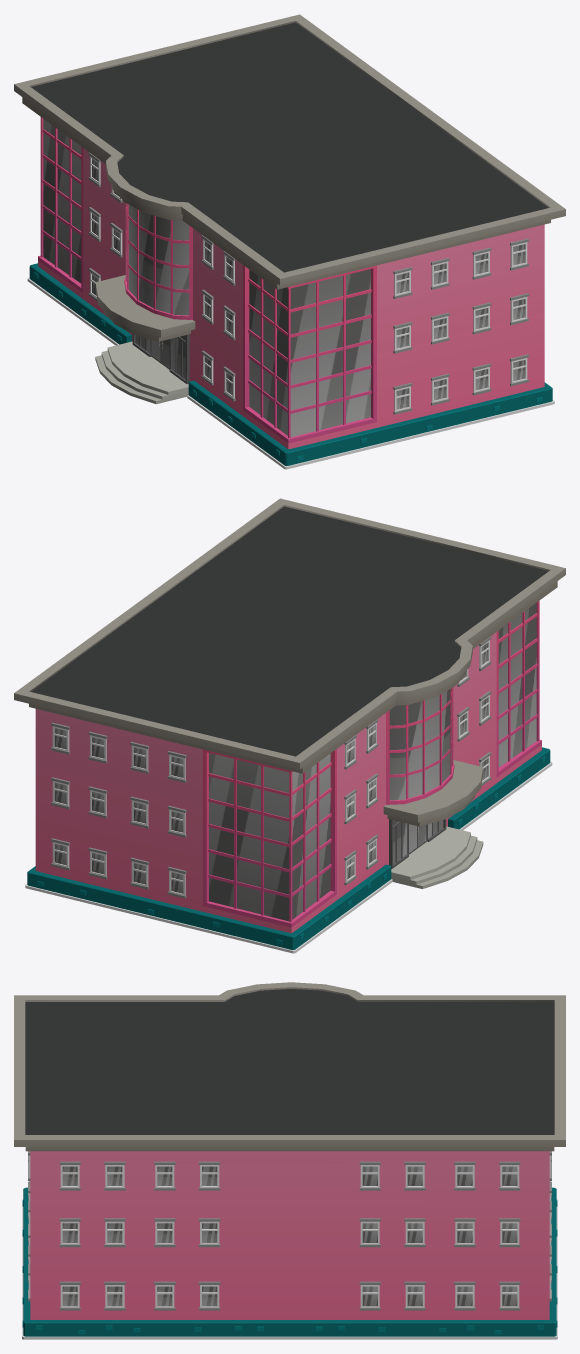
The model's file is Building_23_C.fbx.
3 renders of one model, top to bottom at view 1: azimuth 30°, elevation 25°; view 2: azimuth 150°, elevation 25°; view 3: azimuth 270°, elevation 25°, orthographic. The views are drawn at different scales.
Visible parts, largest first — view 1: Building_23_C; view 2: Building_23_C; view 3: Building_23_C.
Part boxes in pixels (x1=…): Building_23_C: x1=14, y1=14, x2=565, y2=469; Building_23_C: x1=14, y1=498, x2=565, y2=953; Building_23_C: x1=14, y1=982, x2=565, y2=1339.
Bounding box in the file's own units: 2073 × 1207 × 2972.
